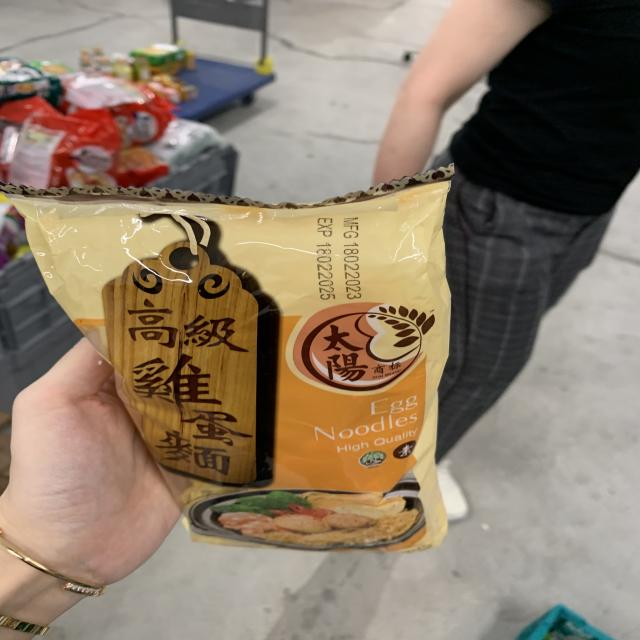object_name: (60, 203, 451, 542)
